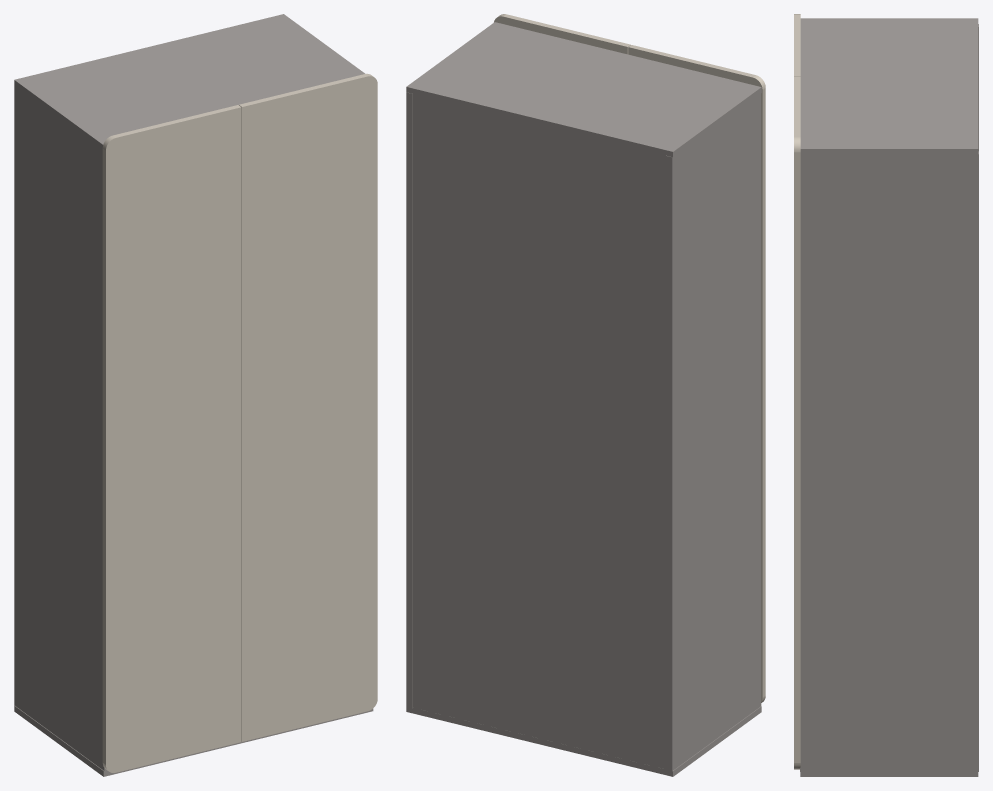
File: 2pir_szafa2d.obj
The picture shows the model from 3 angles, left to right: view 1: azimuth 30°, elevation 25°; view 2: azimuth 150°, elevation 25°; view 3: azimuth 270°, elevation 25°; orthographic projection.
Visible parts, largest first — view 1: Rectangle060, Box002, Box004, Box003; view 2: Plane069, Box002, Box004, Rectangle060, Box001, Box003; view 3: Box001, Box004, Rectangle060, Box003.
Boxes of the visible parts, x1=… form: Rectangle060: x1=102, y1=73, x2=377, y2=772; Box002: x1=14, y1=86, x2=107, y2=771; Box004: x1=14, y1=14, x2=365, y2=149; Box003: x1=14, y1=705, x2=373, y2=776; Plane069: x1=413, y1=94, x2=665, y2=769; Box002: x1=666, y1=93, x2=761, y2=771; Box004: x1=406, y1=22, x2=761, y2=157; Rectangle060: x1=494, y1=14, x2=765, y2=702; Box001: x1=406, y1=92, x2=412, y2=708; Box003: x1=406, y1=706, x2=761, y2=776; Box001: x1=800, y1=151, x2=978, y2=771; Box004: x1=800, y1=18, x2=978, y2=154; Rectangle060: x1=794, y1=14, x2=800, y2=769; Box003: x1=800, y1=771, x2=978, y2=776.
Size of the model in its own units: 96.74 by 217 by 57.28.
